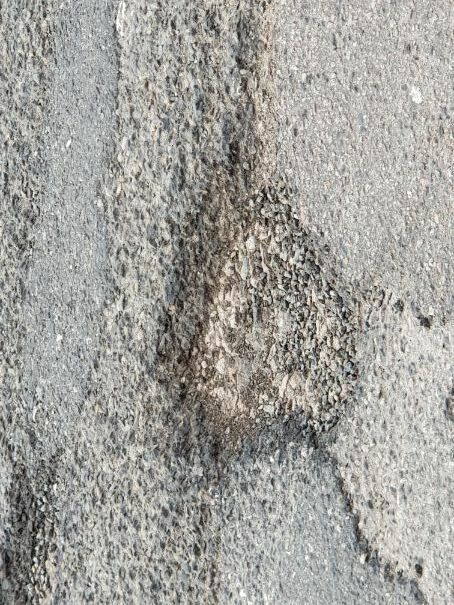pothole: (150, 138, 372, 473)
